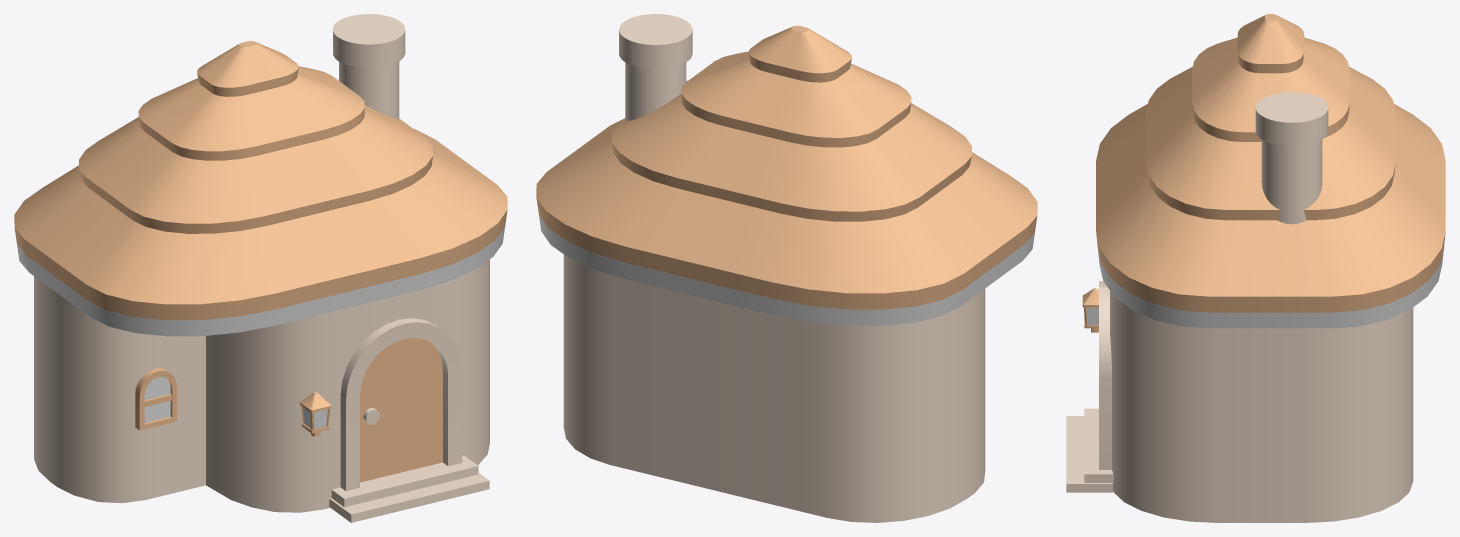
Rendered from House06.glb.
3 views of the same model, side by side, from view 1: azimuth 30°, elevation 25°; view 2: azimuth 150°, elevation 25°; view 3: azimuth 270°, elevation 25° (orthographic).
Parts seen in each view (by area): view 1: House, Door, Pipe, Window, Lamp; view 2: House, Pipe; view 3: House, Pipe, Door, Lamp.
Boxes of the visible parts, box(x1,y1,x2,y2) form: House: box(14, 41, 507, 512); Door: box(329, 318, 489, 522); Pipe: box(333, 14, 405, 119); Window: box(135, 368, 177, 430); Lamp: box(299, 392, 331, 436); House: box(536, 25, 1037, 522); Pipe: box(619, 14, 692, 120); House: box(1096, 14, 1445, 522); Pipe: box(1255, 92, 1328, 224); Door: box(1066, 281, 1113, 492); Lamp: box(1082, 288, 1098, 332).
Bounding box in the file's own units: 1.19 × 1.13 × 0.9503.
